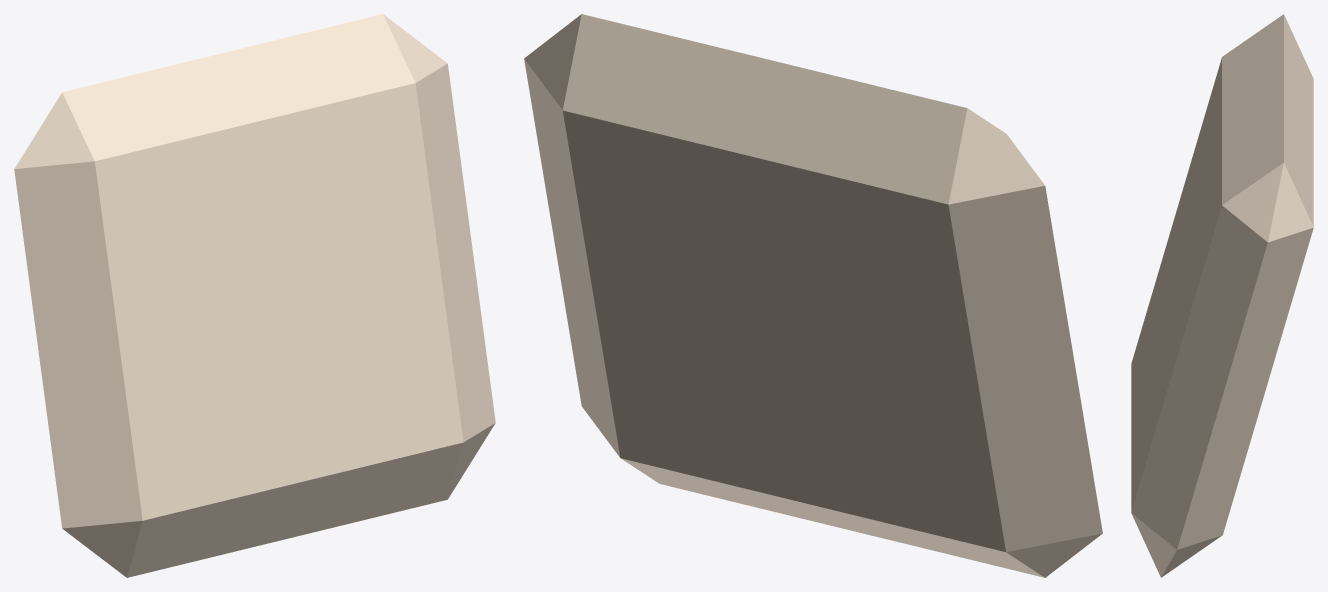
Rendered from kitPillow.glb.
3 renders of one model, left to right at view 1: azimuth 30°, elevation 25°; view 2: azimuth 150°, elevation 25°; view 3: azimuth 270°, elevation 25°, orthographic. The views are drawn at different scales.
Parts seen in each view (by area): view 1: kitPillow_fabric; view 2: kitPillow_fabric; view 3: kitPillow_fabric.
Boxes of the visible parts, <box> form: kitPillow_fabric: <box>14,14,495,577</box>; kitPillow_fabric: <box>524,14,1102,577</box>; kitPillow_fabric: <box>1131,14,1313,577</box>.
Bounding box in the file's own units: 0.4141 × 0.4 × 0.1593.
